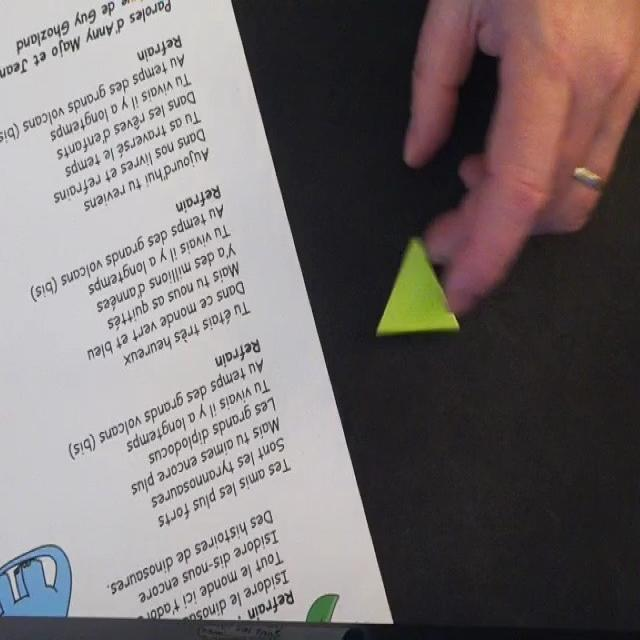triangle: (376, 238, 463, 338)
